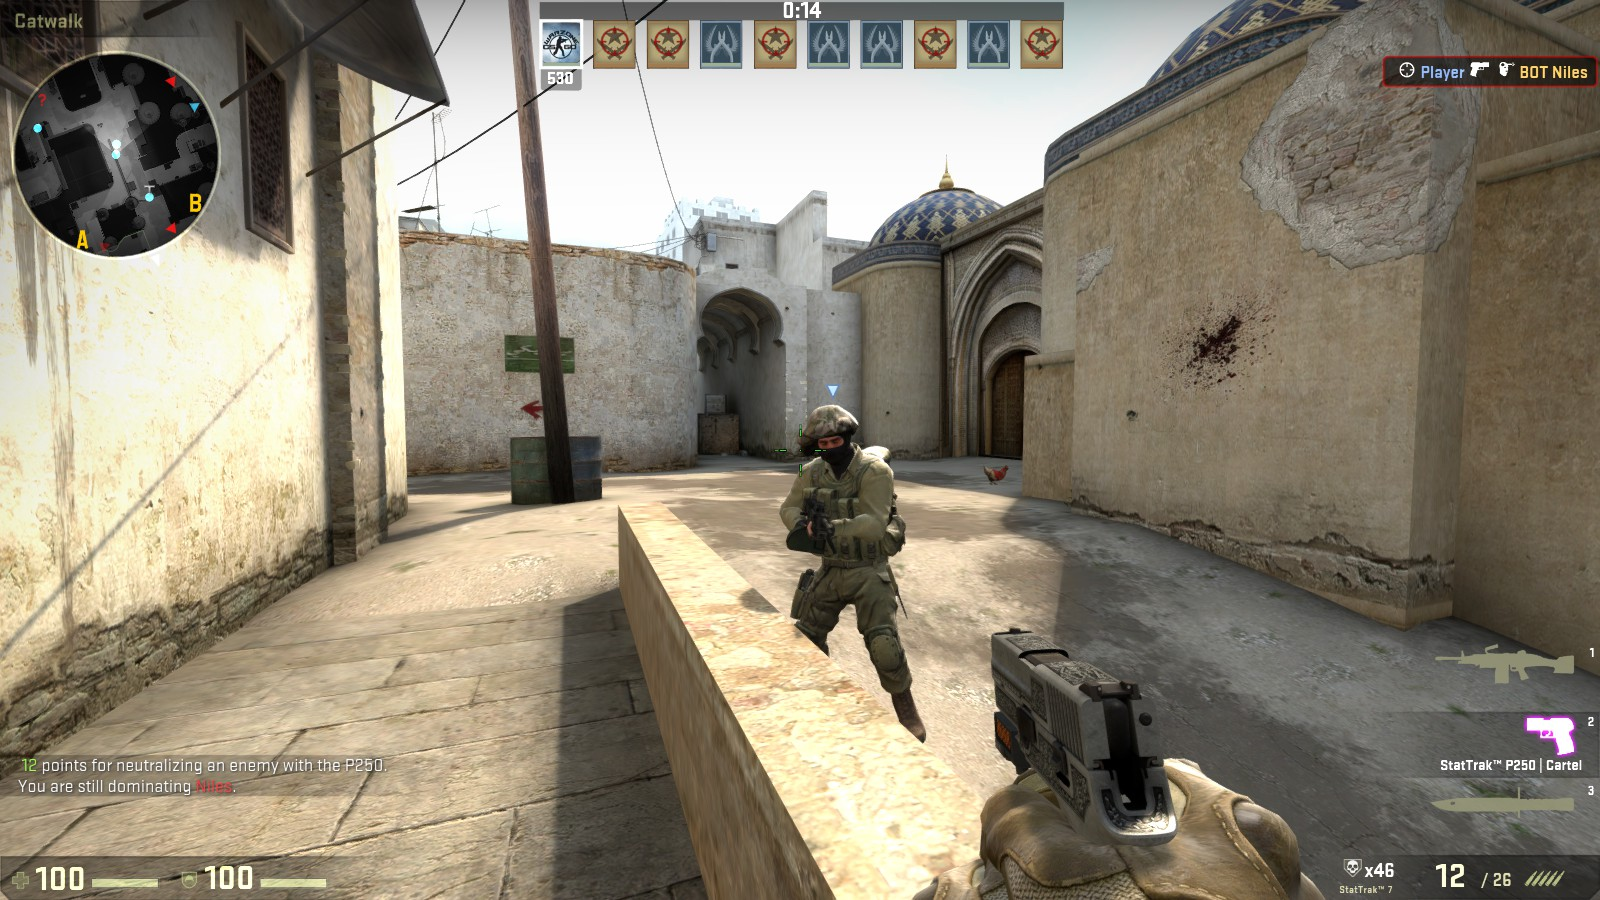c: (784, 399, 919, 733)
ch: (797, 397, 857, 469)
